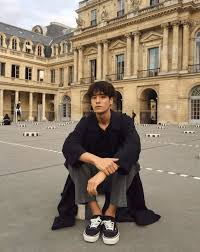people: (63, 83, 141, 244)
